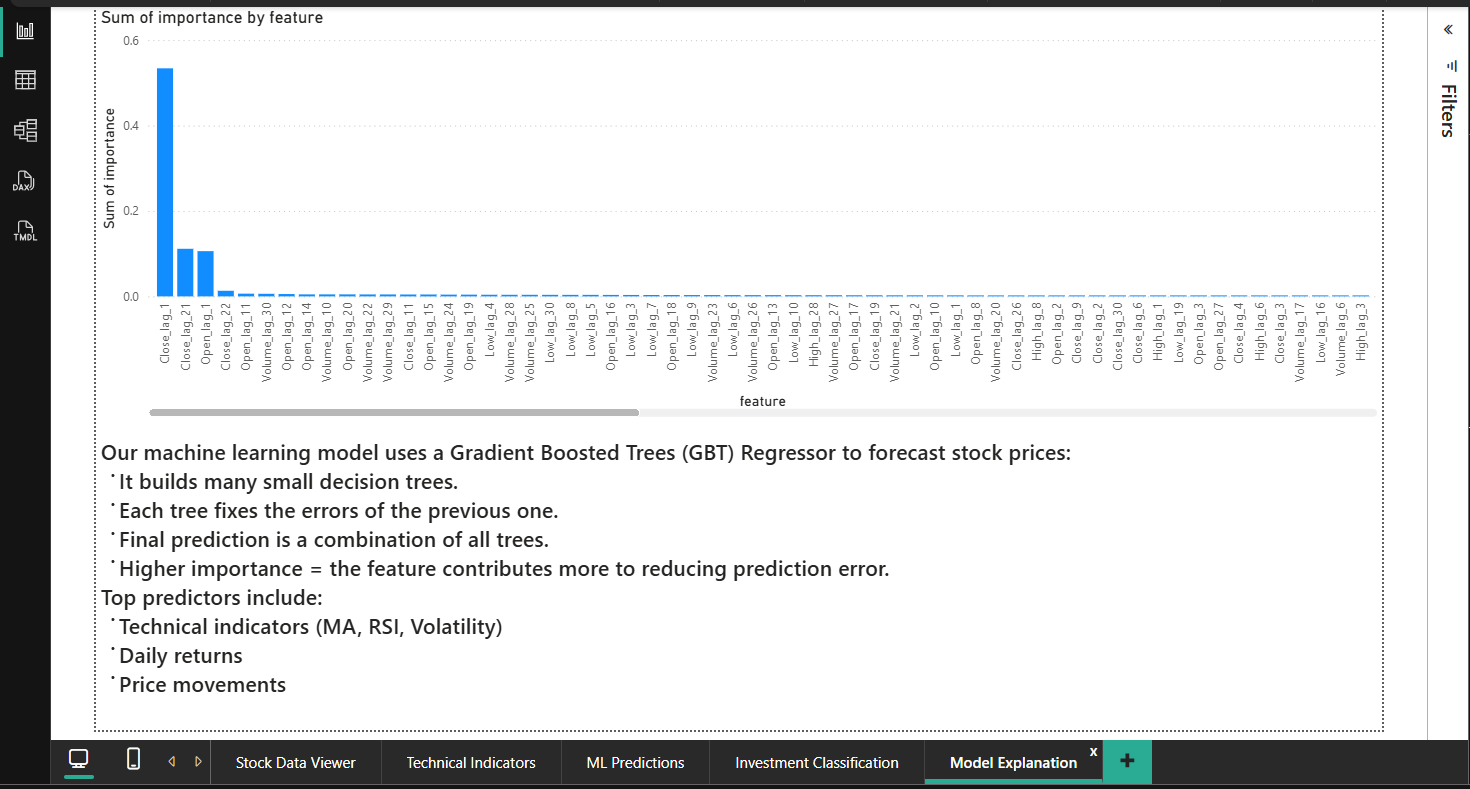

What the dashboard file says about the page in this screenshot:
{"tool":"powerbi","page":{"name":"Model Explanation","canvas":[1280,720],"ordinal":4},"visuals":[{"type":"columnChart","fields":{"Category":["feature_importance.feature"],"Y":["Sum(feature_importance.importance)"]},"box":[0,0,1280,413],"z":0},{"type":"textbox","box":[0,423,1280,297],"z":1000}]}

Visuals, with their boxes on the page's 1280x720 design canvas (x1, y1, x2, y2). These are canvas units, not pixel positions in the 1470x789 screenshot, which may show the page scaled, cropped or inside an application window:
columnChart - feature_importance.feature x Sum(feature_importance.importance): <region>0, 0, 1280, 413</region>
textbox: <region>0, 423, 1280, 720</region>
